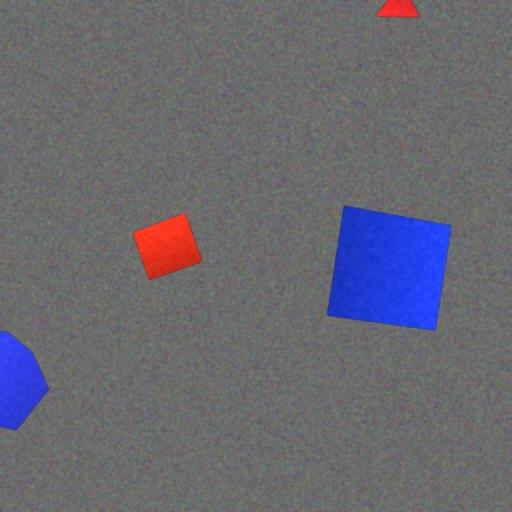BLUE_SQUARE: (326, 205, 452, 332)
RED_SQUARE: (132, 212, 203, 281)
